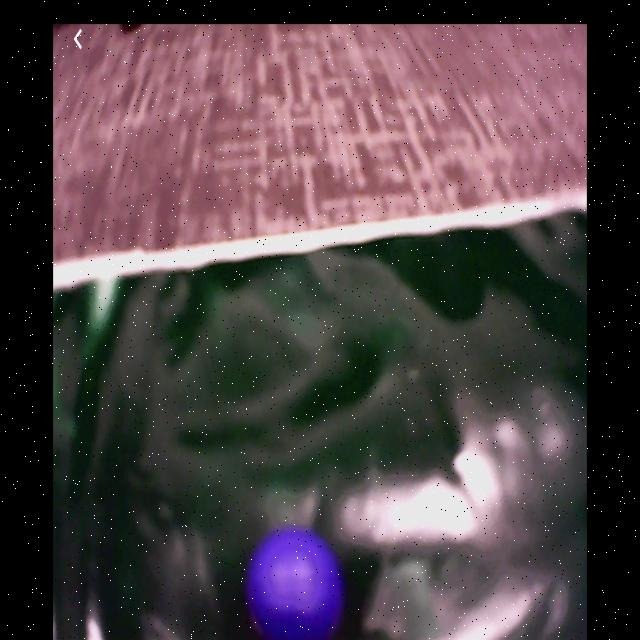ball: (249, 531, 345, 632)
